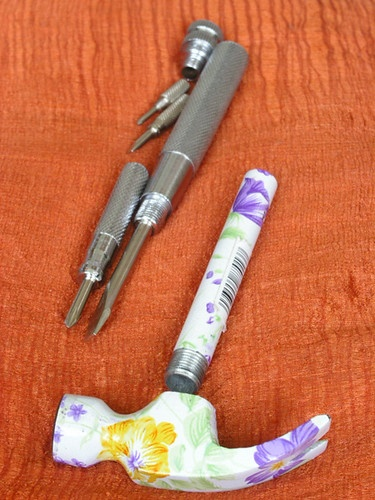hammer: (38, 166, 331, 493)
